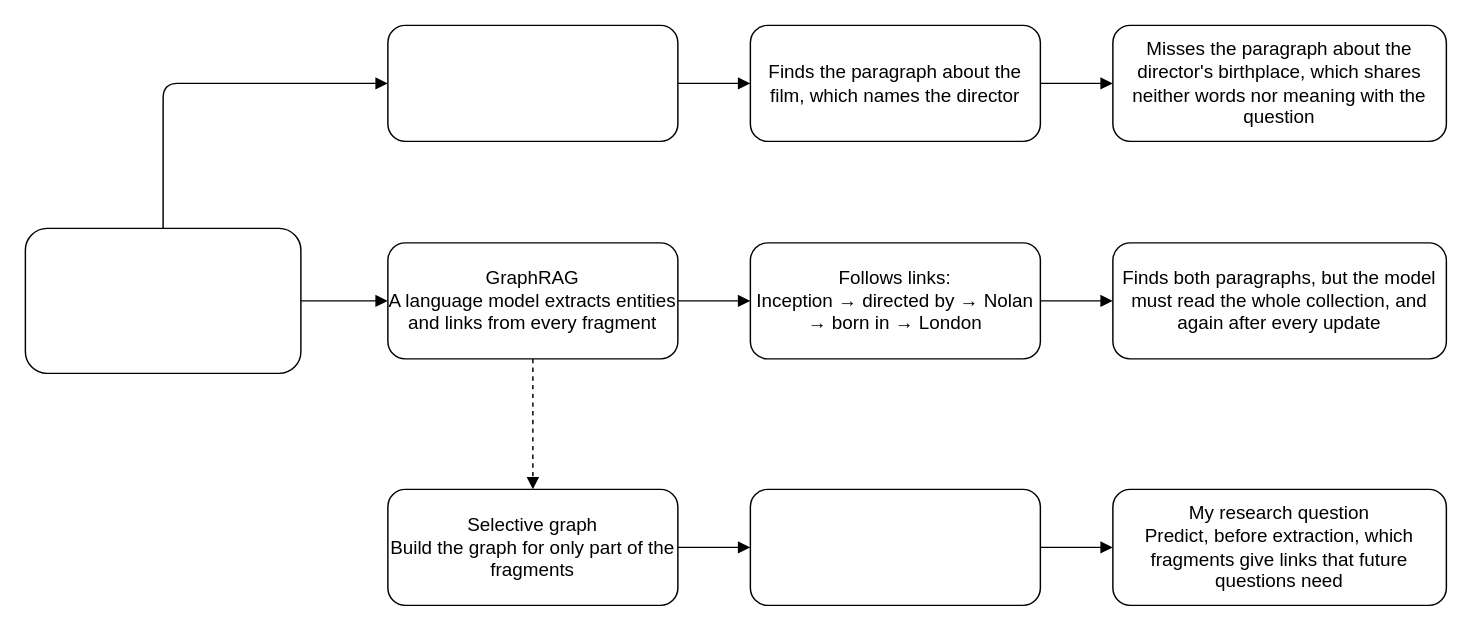
Some shapes in this 1472 by 631 pixel diagram are drawn without their labels. The centre of each missing label's shape, as x and y in pixels:
"Basic RAG Hybrid search over keywords and meaning, then reranking" goes at (x=532, y=82).
"Multi-hop question Where was the director of the film «Inception» born?" goes at (x=162, y=300).
"Which part? KET-RAG: the most central fragments in a similarity graph" goes at (x=894, y=546).
